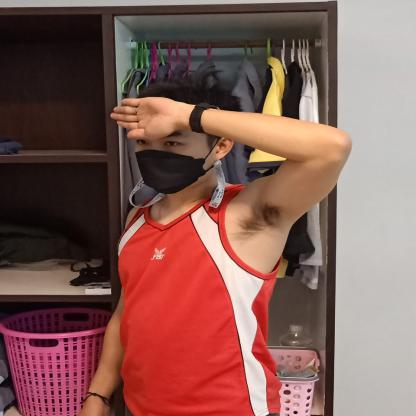Sick: (104, 90, 356, 210)
